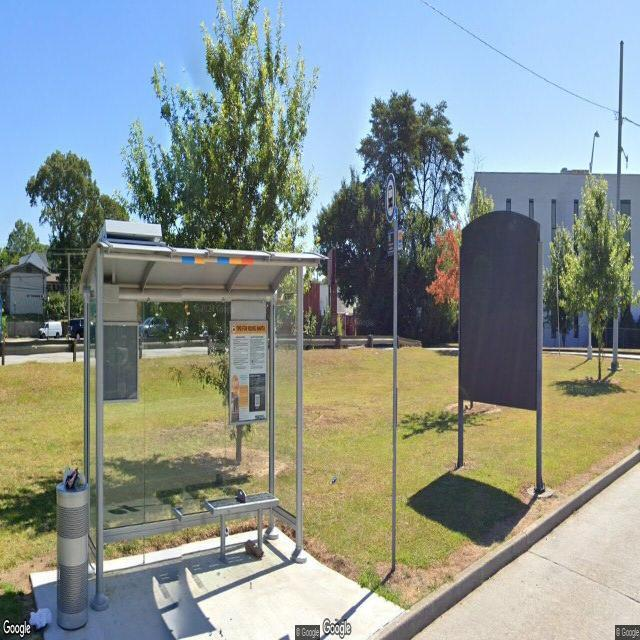seating: (203, 490, 281, 561)
shelter: (80, 236, 330, 604)
trash_can: (55, 472, 89, 630)
